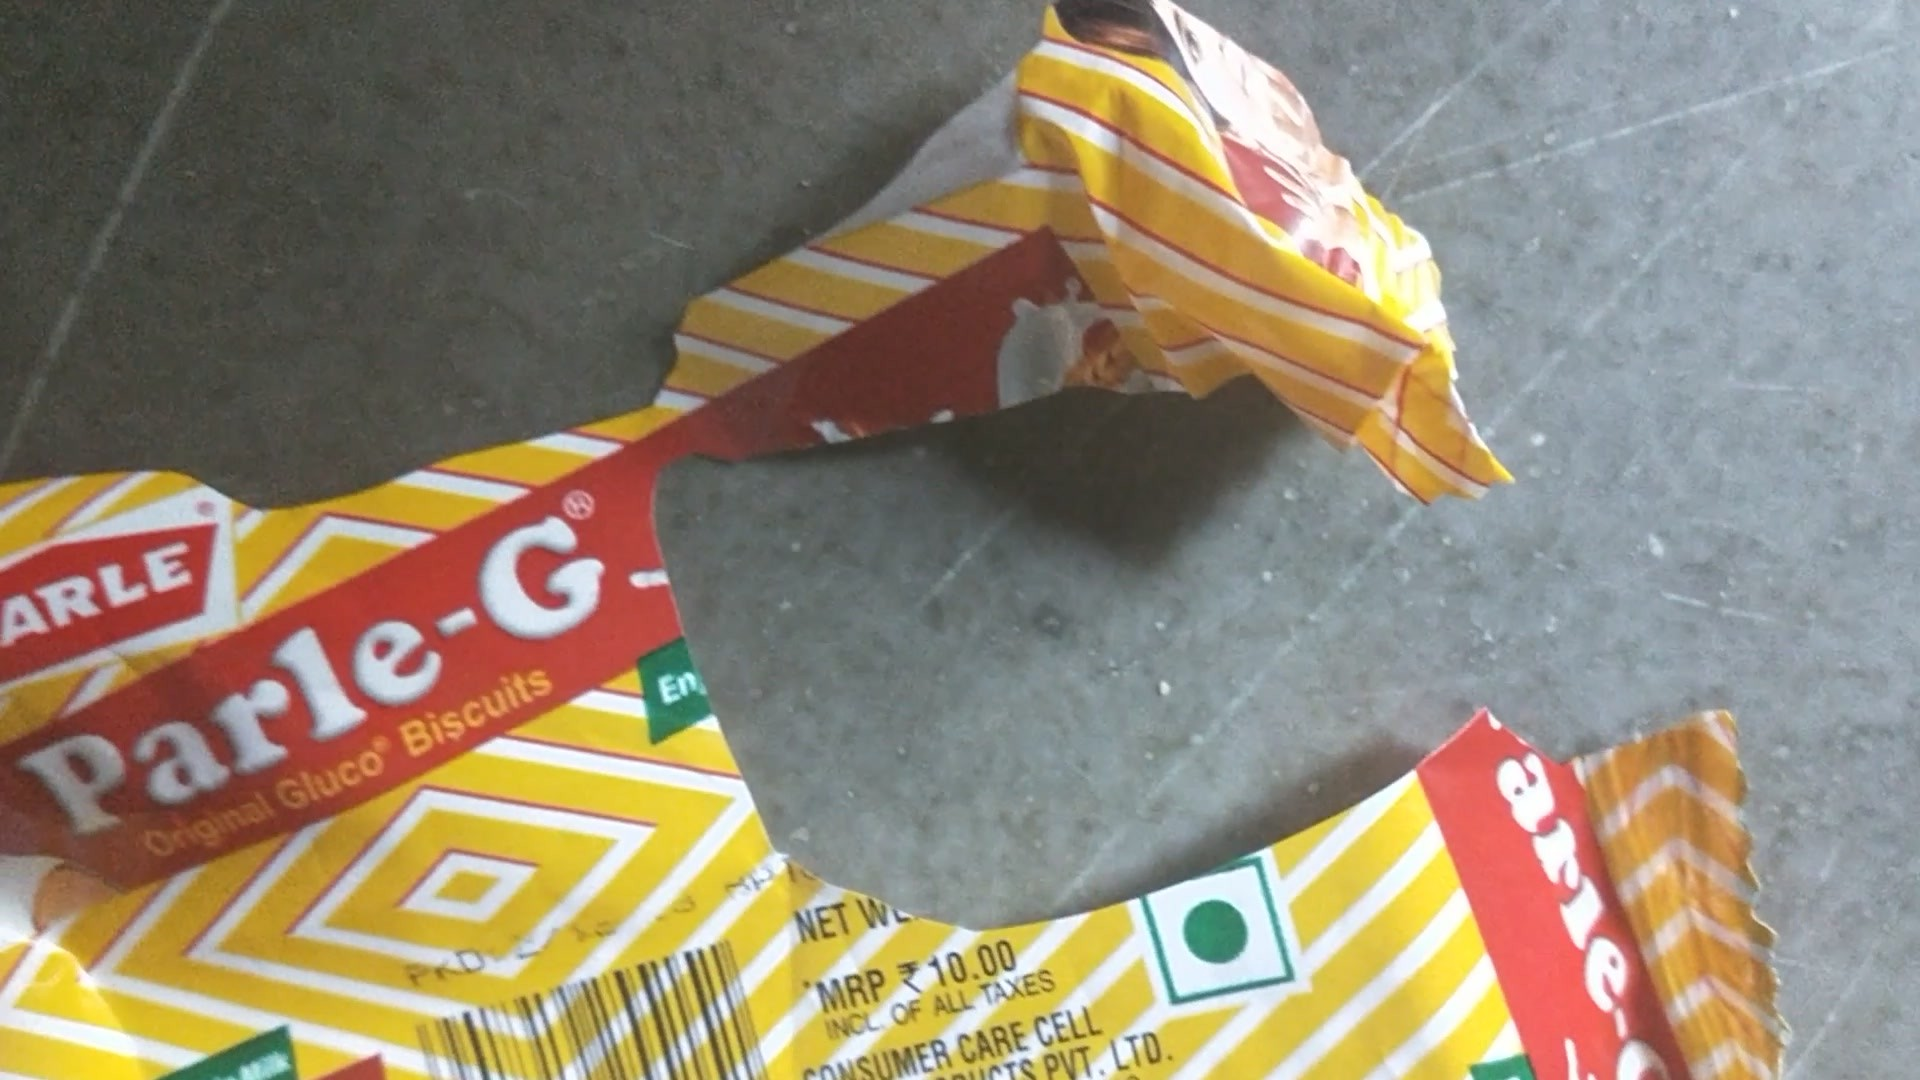parle-g-b: (1, 516, 1822, 1080)
